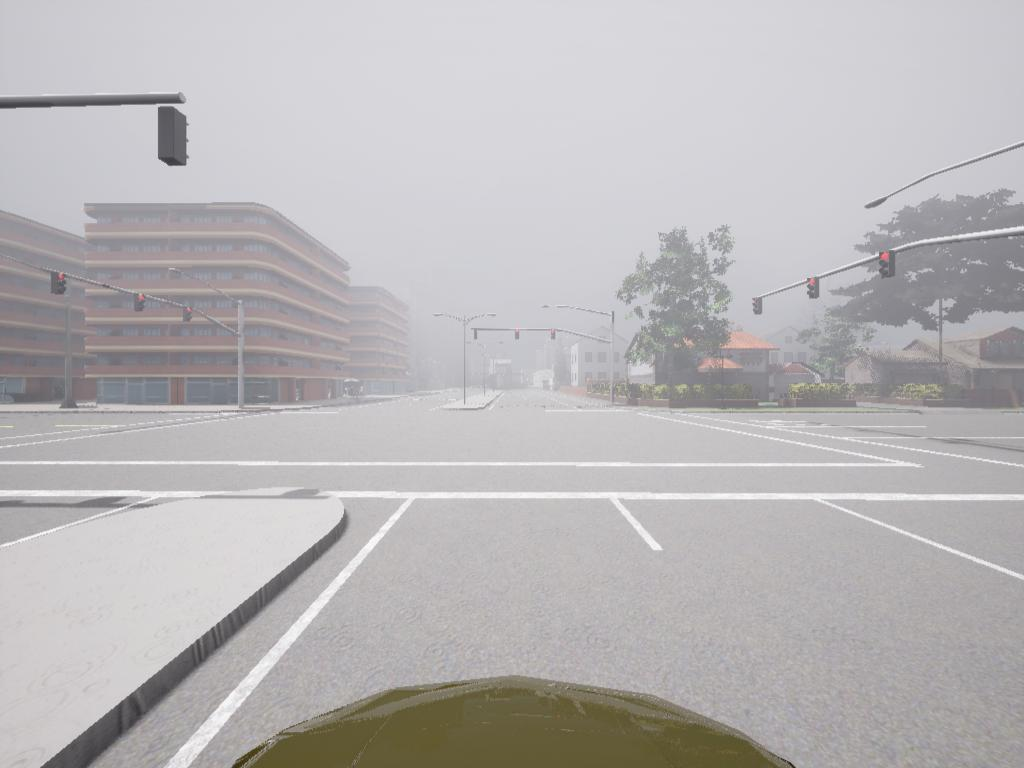traffic_light: (156, 108, 190, 170), (49, 271, 70, 299), (879, 254, 893, 280), (133, 291, 147, 313), (753, 296, 766, 317), (810, 278, 821, 300), (184, 305, 194, 326), (514, 329, 521, 342), (553, 329, 559, 344), (474, 330, 480, 344)
